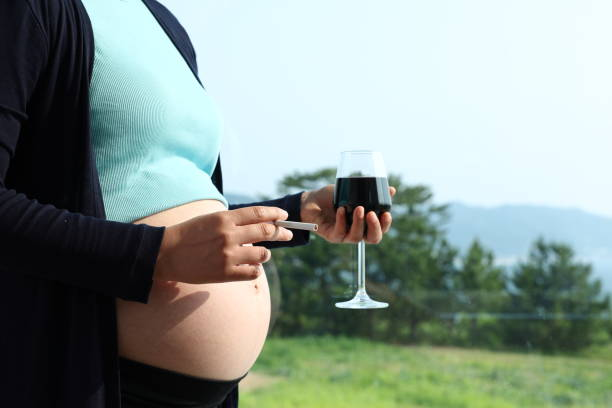alcohol: (332, 143, 392, 311)
cigarette: (274, 217, 321, 234)
